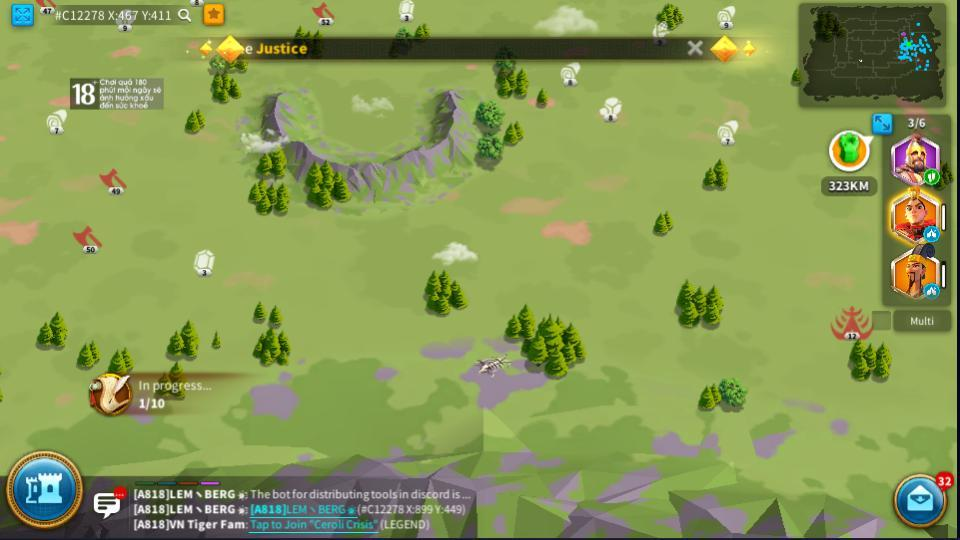gem-z-out: (192, 249, 215, 275), (397, 0, 416, 20)
march_idle: (923, 284, 939, 297), (923, 227, 938, 239)
march_marching: (923, 170, 938, 184)
